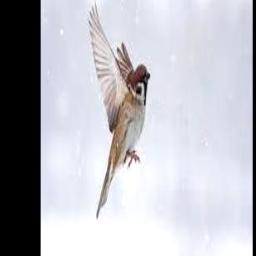Sparrow: (87, 1, 150, 218)
